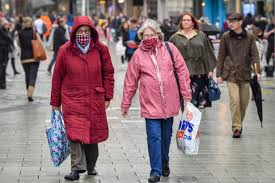no-mask: (226, 11, 246, 34), (178, 11, 198, 31)
with-mask: (67, 14, 97, 50), (136, 18, 168, 51)
